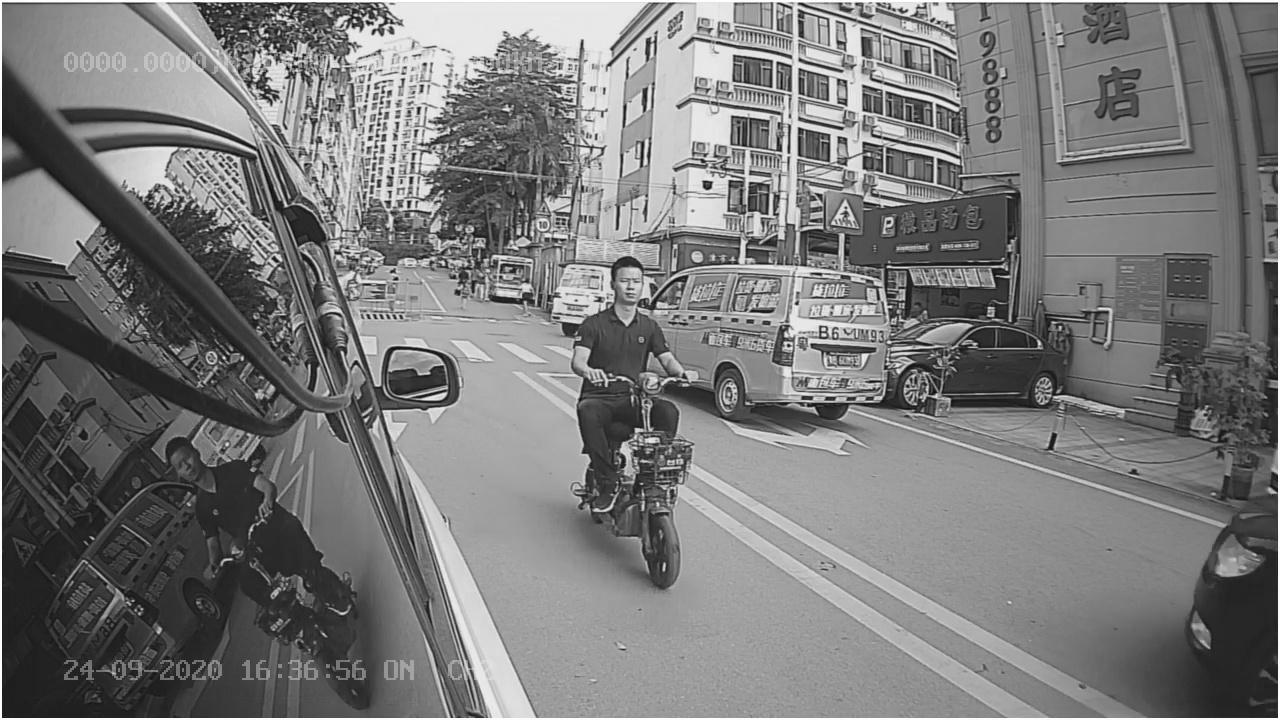person: (534, 252, 726, 607)
